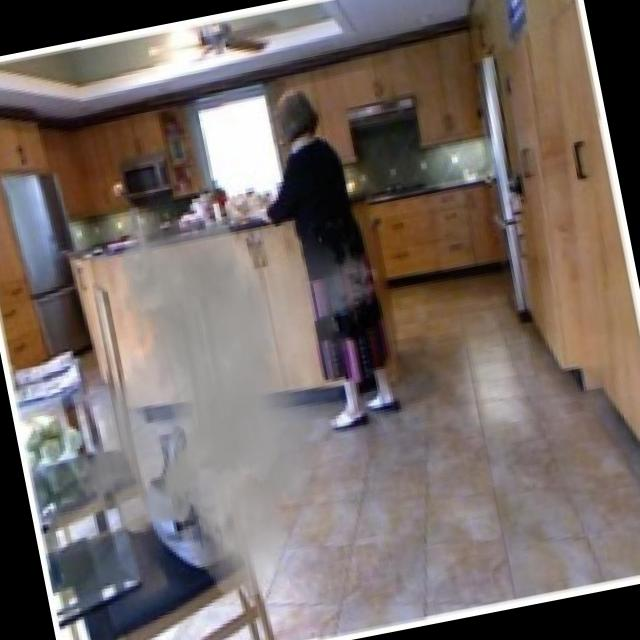Smoke: (18, 166, 437, 629)
